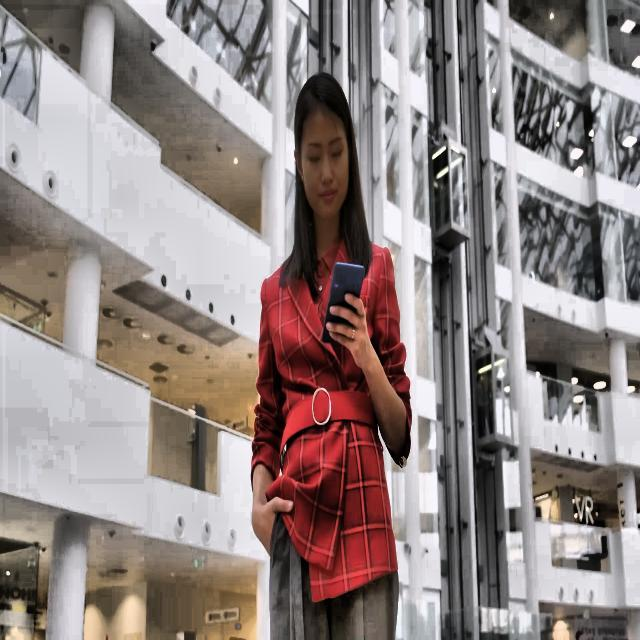Phone: (321, 260, 368, 350)
